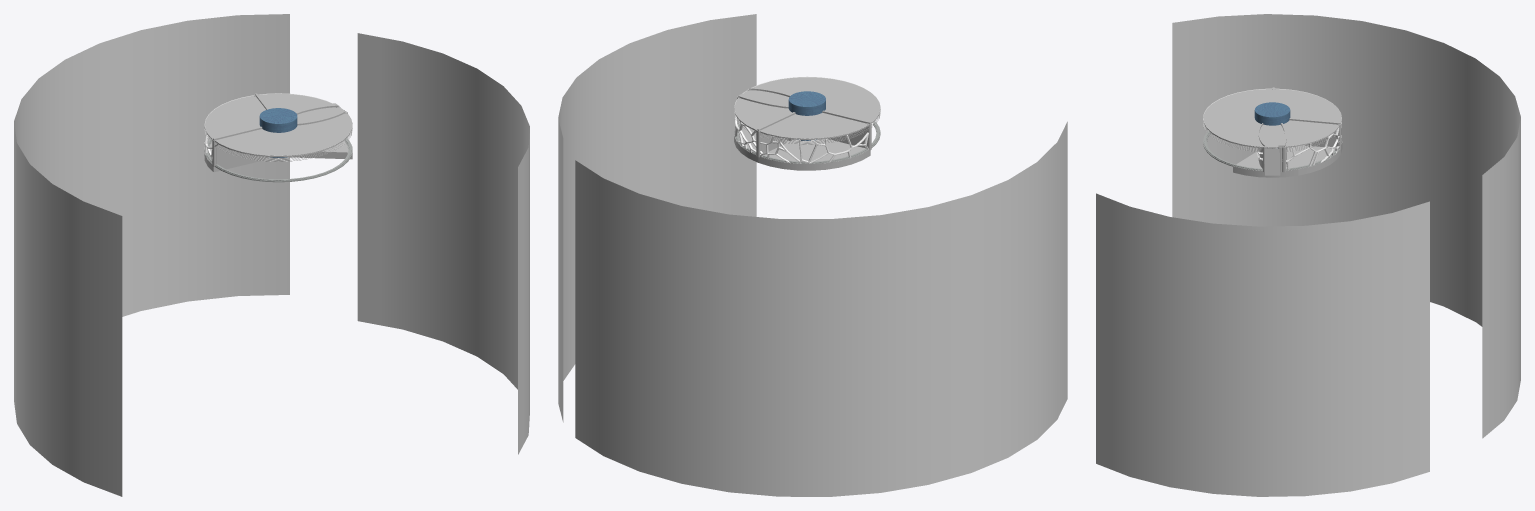
File: SM_House.fbx
3 views of the same model, side by side, from view 1: azimuth 30°, elevation 25°; view 2: azimuth 150°, elevation 25°; view 3: azimuth 270°, elevation 25° (orthographic). The views are drawn at different scales.
Parts seen in each view (by area): view 1: Skybox_Livingroom, Skybox_Bedroom.001, SM_Ceiling, SM_BuildingCore, SM_Shutters, SM_WindowBorders; view 2: Skybox_Livingroom, Skybox_Bedroom.001, SM_Ceiling, SM_Floor.002, SM_Windowpanes, SM_BuildingCore, SM_Shutters; view 3: Skybox_Bedroom.001, Skybox_Livingroom, SM_Ceiling, SM_Floor.001, SM_BuildingCore, SM_Floor.003, SM_Shutters, SM_Windowpanes.
Boxes of the visible parts, box(x1,y1,x2,y2) form: Skybox_Livingroom: box(14, 14, 289, 496); Skybox_Bedroom.001: box(357, 33, 529, 454); SM_Ceiling: box(204, 93, 352, 157); SM_BuildingCore: box(259, 108, 297, 157); SM_Shutters: box(204, 93, 352, 161); SM_WindowBorders: box(204, 138, 352, 182); Skybox_Livingroom: box(575, 121, 1067, 496); Skybox_Bedroom.001: box(558, 14, 756, 422); SM_Ceiling: box(734, 77, 880, 139); SM_Floor.002: box(758, 139, 870, 170); SM_Windowpanes: box(734, 114, 873, 163); SM_BuildingCore: box(788, 91, 825, 140); SM_Shutters: box(734, 76, 880, 144); Skybox_Bedroom.001: box(1096, 193, 1429, 496); Skybox_Livingroom: box(1172, 14, 1520, 438); SM_Ceiling: box(1203, 89, 1341, 148); SM_Floor.001: box(1286, 145, 1340, 175); SM_BuildingCore: box(1254, 102, 1290, 148); SM_Floor.003: box(1233, 151, 1298, 177); SM_Shutters: box(1203, 88, 1341, 152); SM_Windowpanes: box(1257, 124, 1341, 170).
Size of the model in its own units: 61.11 by 45.61 by 69.69.
